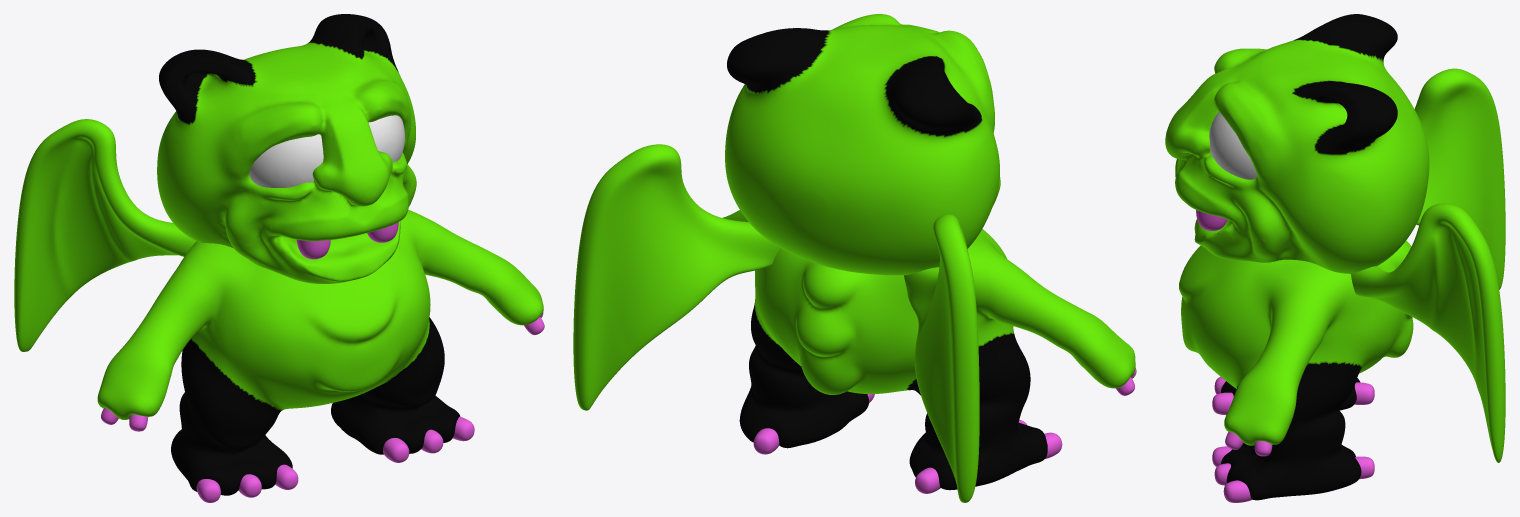
Rendered from Tiramisu_HI.fbx.
3 renders of one model, left to right at view 1: azimuth 30°, elevation 25°; view 2: azimuth 150°, elevation 25°; view 3: azimuth 270°, elevation 25°, orthographic. The views are drawn at different scales.
Parts seen in each view (by area): view 1: Body, Head, Wings.002, Sphere.001, Toes, Teeth, Claws; view 2: Head, Body, Wings.002, Toes; view 3: Head, Body, Wings.002, Toes, Sphere.001, Claws, Teeth.
Boxes of the visible parts, x1=… form: Body: x1=97, y1=210, x2=543, y2=495; Head: x1=157, y1=14, x2=416, y2=283; Wings.002: x1=14, y1=119, x2=196, y2=351; Sphere.001: x1=249, y1=115, x2=404, y2=187; Toes: x1=196, y1=416, x2=474, y2=502; Teeth: x1=296, y1=222, x2=398, y2=259; Claws: x1=101, y1=312, x2=544, y2=431; Head: x1=725, y1=14, x2=1000, y2=275; Body: x1=722, y1=210, x2=1135, y2=490; Wings.002: x1=573, y1=144, x2=979, y2=502; Toes: x1=753, y1=394, x2=1062, y2=493; Head: x1=1165, y1=14, x2=1429, y2=273; Body: x1=1179, y1=240, x2=1413, y2=500; Wings.002: x1=1351, y1=68, x2=1505, y2=462; Toes: x1=1212, y1=377, x2=1374, y2=502; Sphere.001: x1=1209, y1=111, x2=1257, y2=179; Claws: x1=1225, y1=431, x2=1272, y2=456; Teeth: x1=1196, y1=210, x2=1227, y2=230.
Size of the model in its own units: 231 by 196 by 156.
